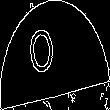O_S: (40, 26, 70, 84)
